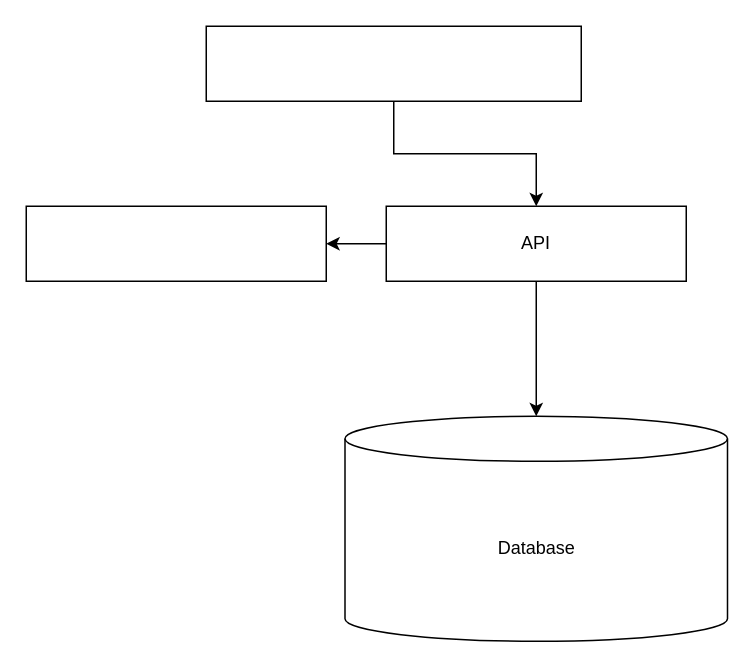
The diagram is 755 pixels wide and 668 high, and some of its shapes have lost their labels. Each missing label, with the centre of its shape:
"Authentication" belongs at (175,243).
"Frontend" belongs at (393,63).
